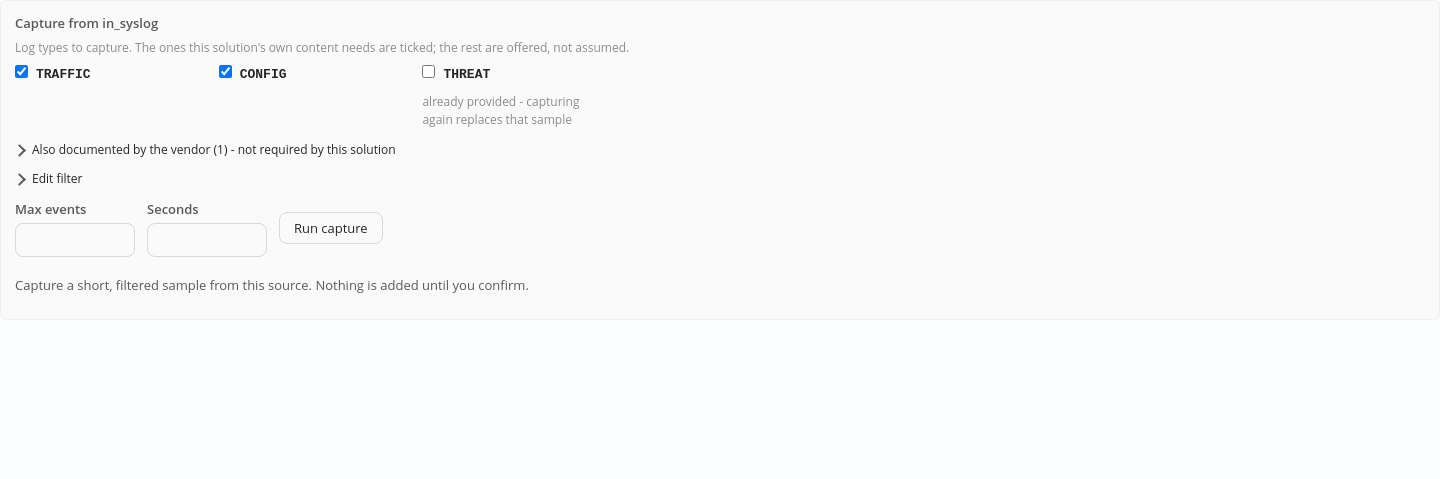
Scenario: CapturePanel - what the commit reports afterwards › reports a FULL commit instead of reverting to the idle instruction
Click the button with class "run-button".
click(331, 228)  # box [279,212,383,244]
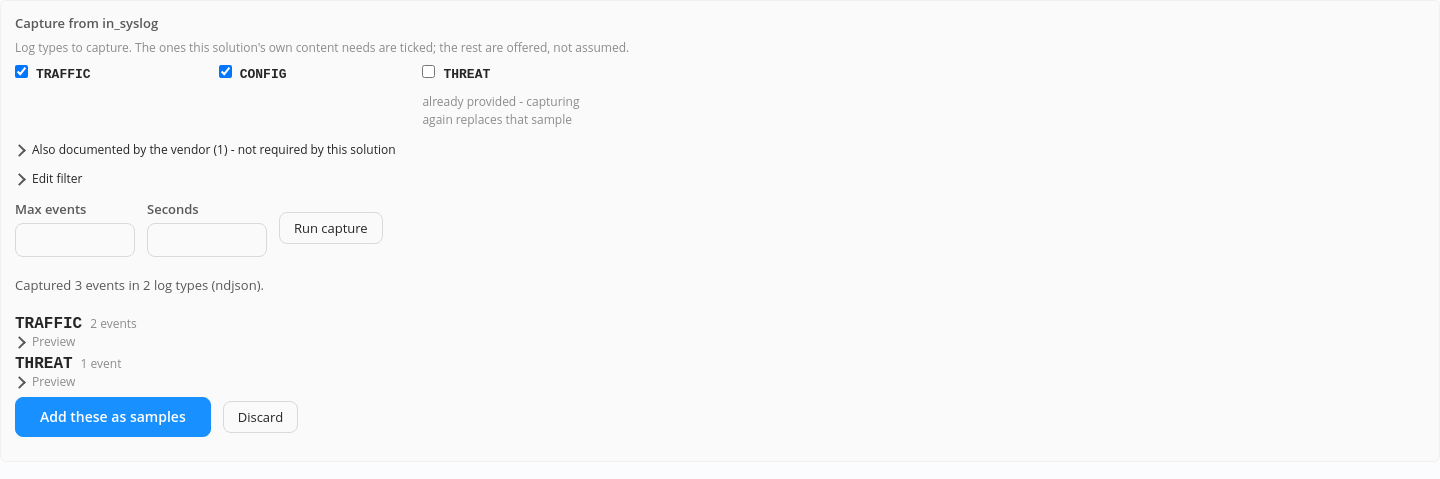
Click the button with class "next-action-button".
click(113, 417)  # box [15,397,211,437]
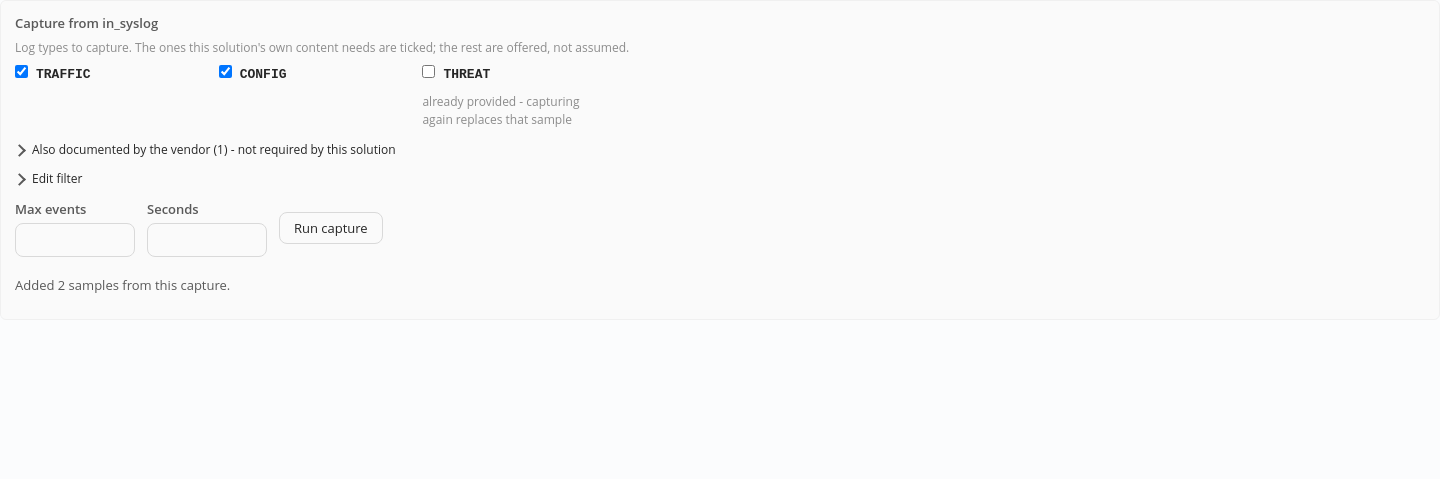
Expected: the number of elements with test id "capture-outcome" is 1, [15,276,230,294]
Expected: the text "Added 2 samples from this capture." is shown, [15,276,230,294]
